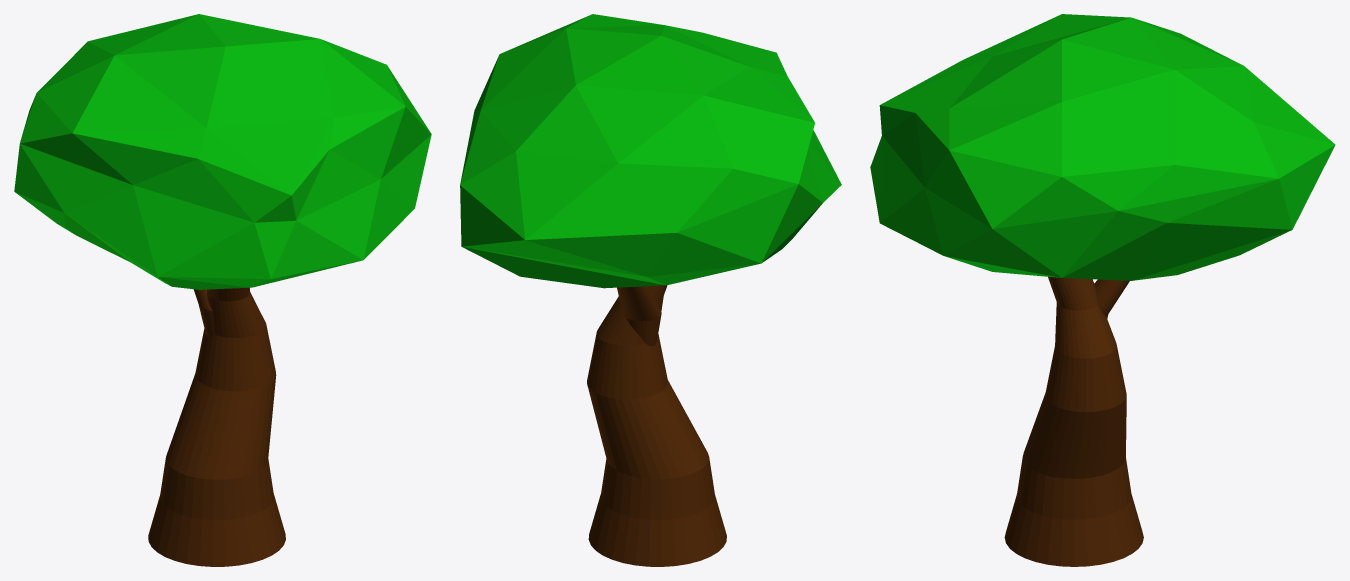
Rendered from boomcyl.glb.
The picture shows the model from 3 angles, left to right: view 1: azimuth 30°, elevation 25°; view 2: azimuth 150°, elevation 25°; view 3: azimuth 270°, elevation 25°; orthographic projection.
Visible parts, largest first — view 1: Icosphere, Cylinder; view 2: Icosphere, Cylinder; view 3: Icosphere, Cylinder.
Part boxes in pixels (x1=…): Icosphere: x1=14, y1=14, x2=431, y2=289; Cylinder: x1=148, y1=287, x2=285, y2=566; Icosphere: x1=460, y1=14, x2=841, y2=288; Cylinder: x1=587, y1=285, x2=726, y2=566; Icosphere: x1=870, y1=14, x2=1335, y2=280; Cylinder: x1=1004, y1=277, x2=1143, y2=566.
Bounding box in the file's own units: 17.2 × 23.73 × 20.05.
